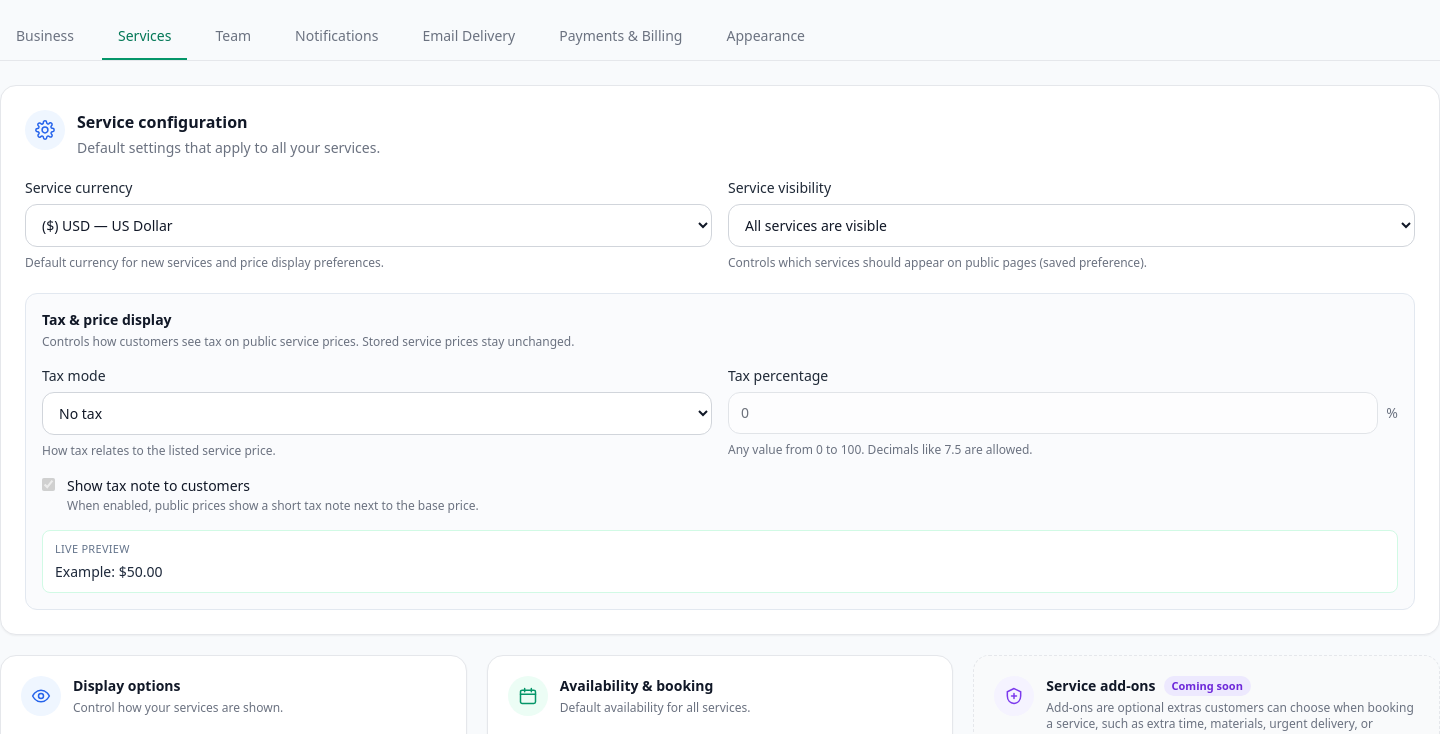
Test: admin services settings › saves currency and tax settings through updateBusiness after API success
The image size is (1440, 734).
Select "(₽) RUB — Russian Ruble" in the dropdown with test id "admin-services-currency" at {"x": 368, "y": 226}, box 25,204 -> 712,247
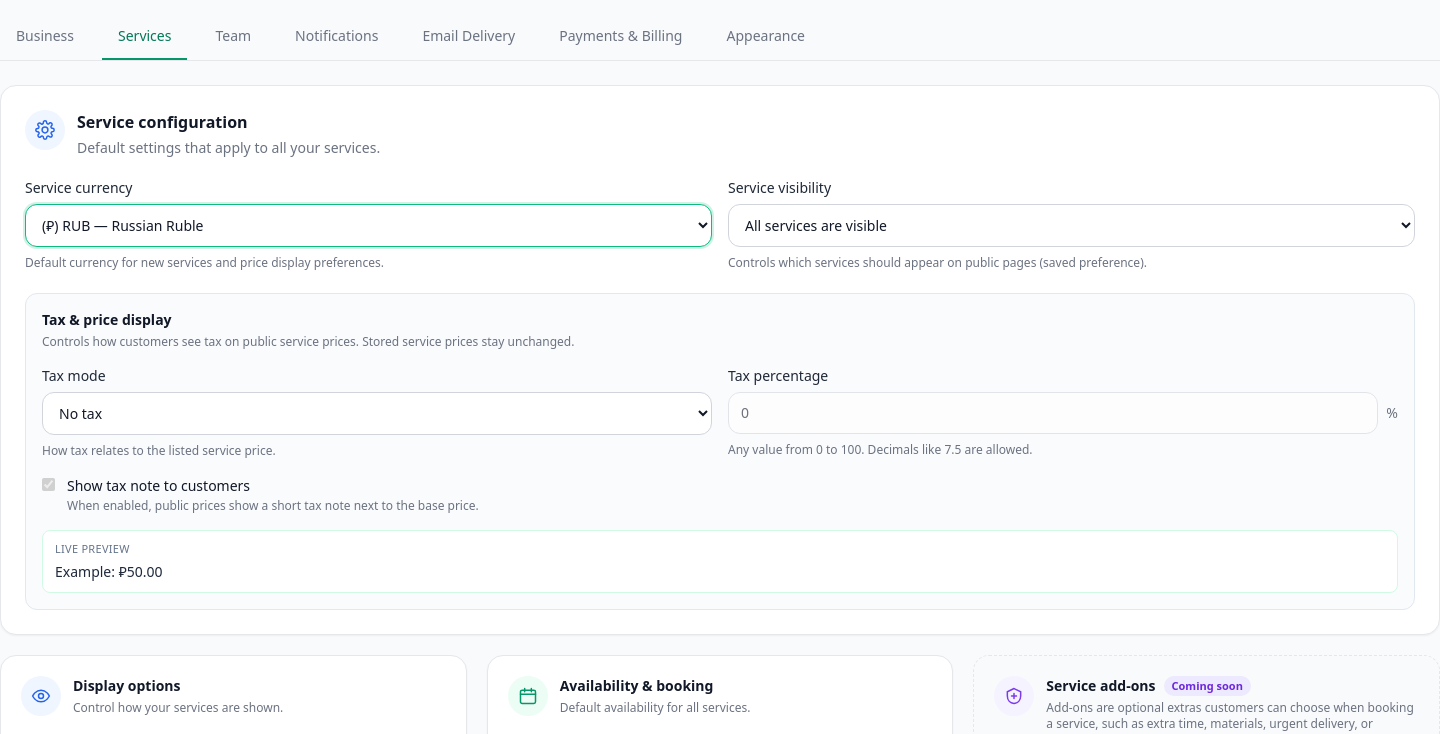
Select "Add tax on top of price" in the dropdown with test id "admin-services-tax" at {"x": 377, "y": 413}, box 42,392 -> 712,434
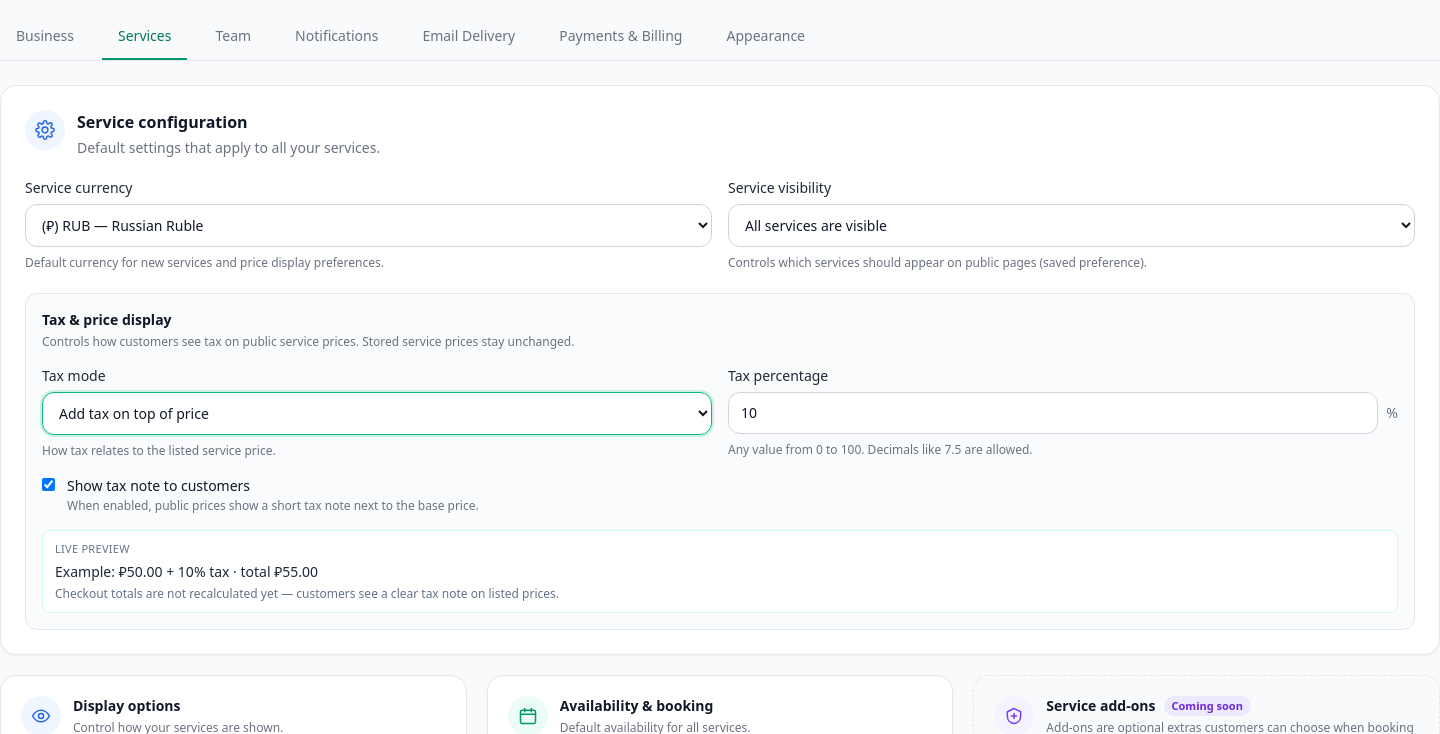
Replace the text in the number field with test id "admin-services-tax-percent" with "7.5" at {"x": 1053, "y": 412}, box 728,392 -> 1378,434
(page scrolled)
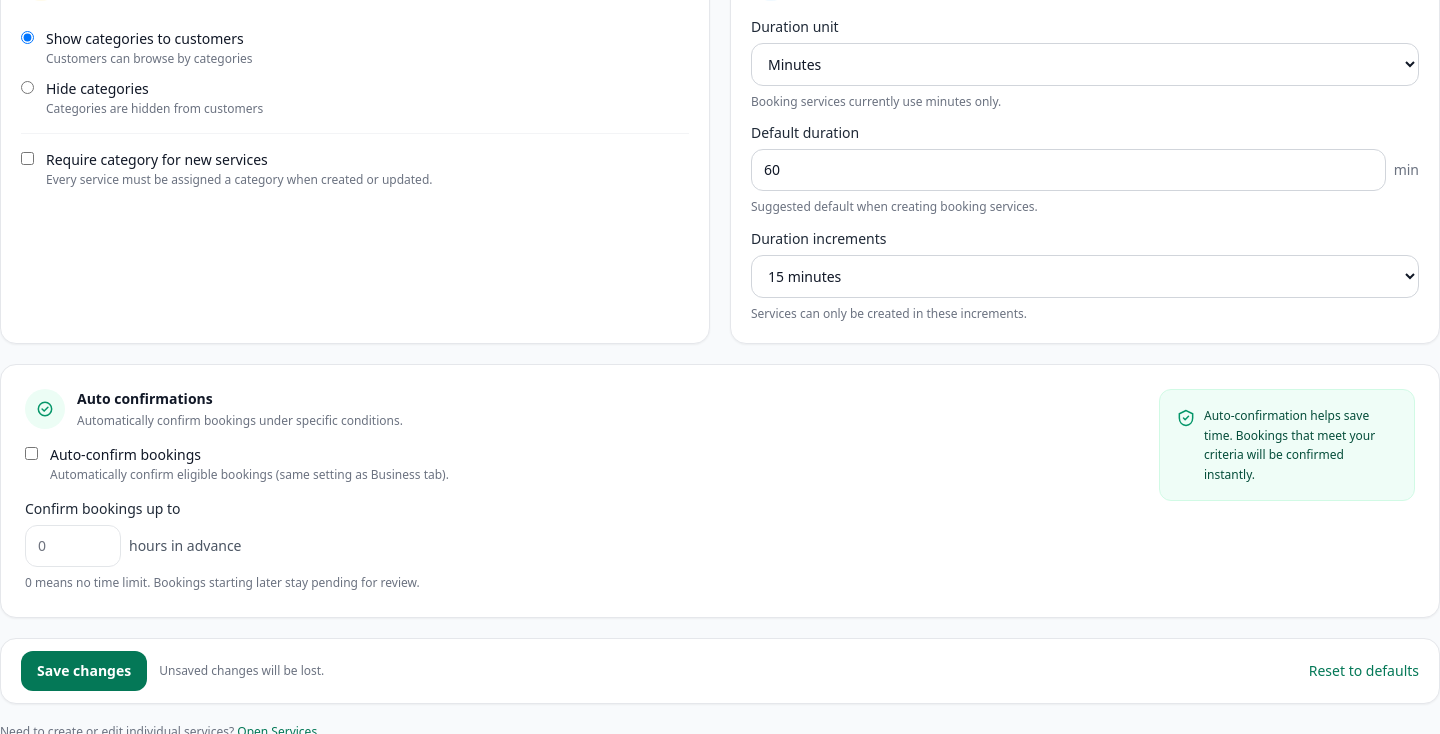
Click the button with test id "admin-services-settings-save" at {"x": 84, "y": 670}, box 21,650 -> 147,690
(page scrolled)
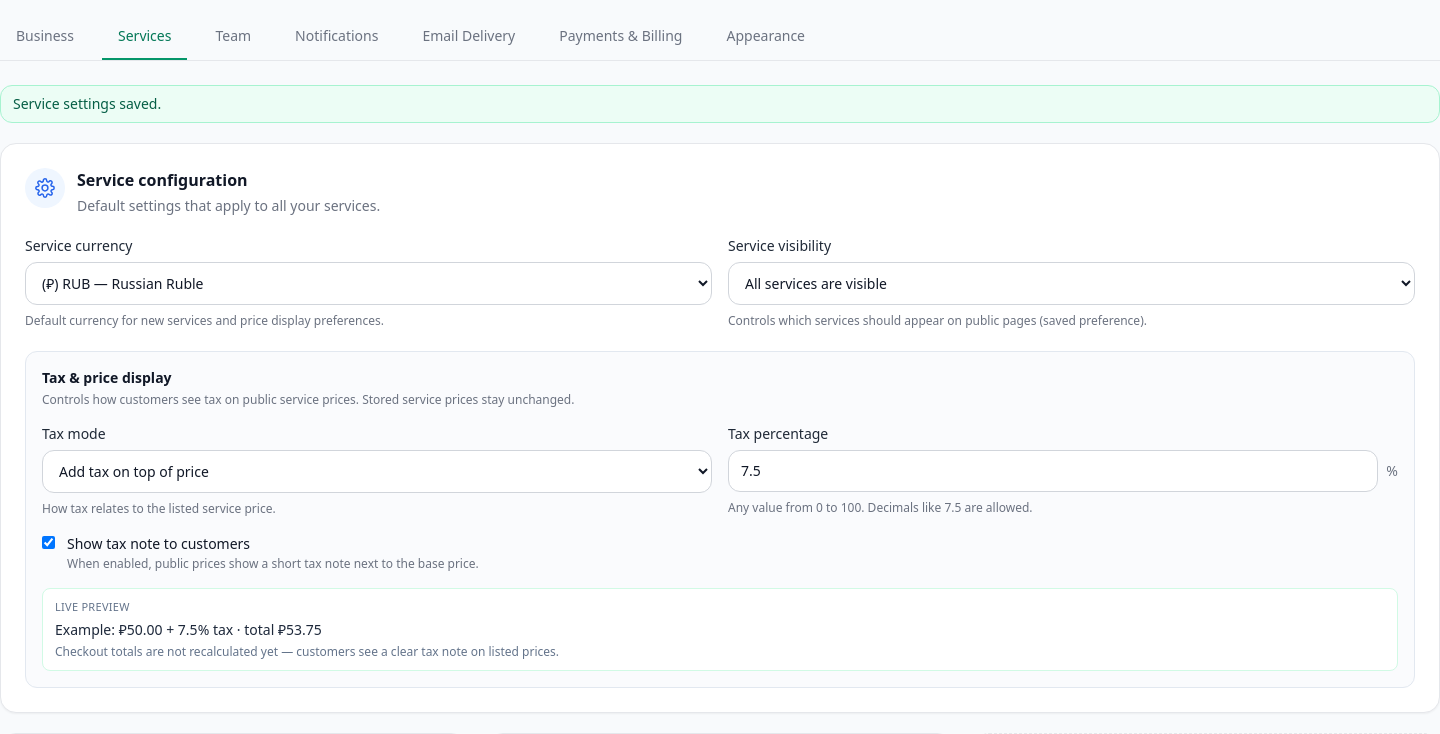
expect the text with test id "admin-services-settings-success" reads "Service settings saved.": met, box 13,94 -> 161,113
